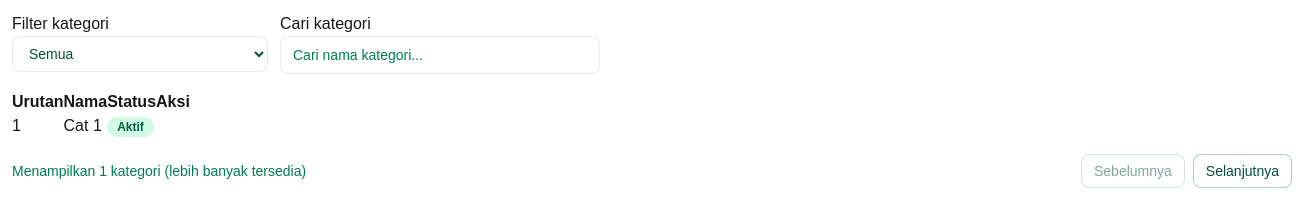
it: CategoryTable DOM › Previous/Next pagination with cursor history
The width and height of the screenshot is (1304, 209).
Expected: the text "Cat 1" is shown, [64, 114, 107, 138]
Step 1. Click the button "Selanjutnya" → (1242, 171), box [1193, 154, 1292, 188]
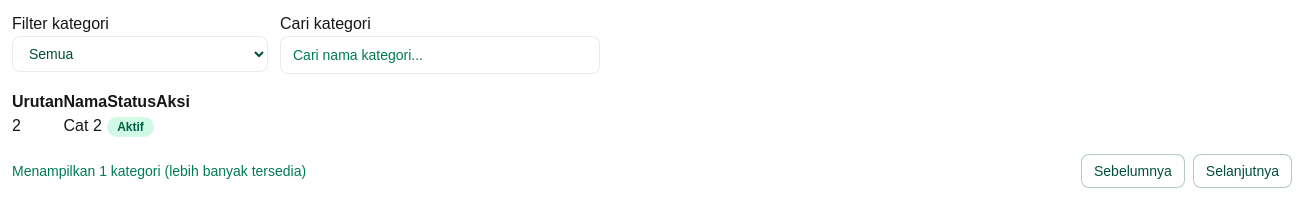
Expected: the text "Cat 2" is shown, [64, 114, 107, 138]
Step 2. Click the button "Selanjutnya" → (1242, 171), box [1193, 154, 1292, 188]
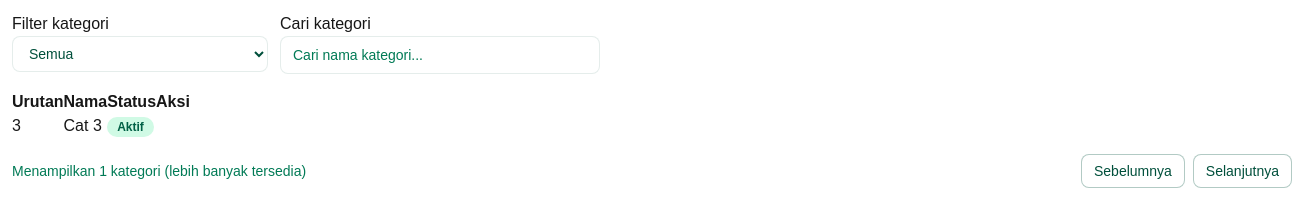
Expected: the button "Sebelumnya" is enabled
Expected: the text "Cat 3" is shown, [64, 114, 107, 138]
Step 3. Click the button "Sebelumnya" → (1133, 171), box [1081, 154, 1185, 188]
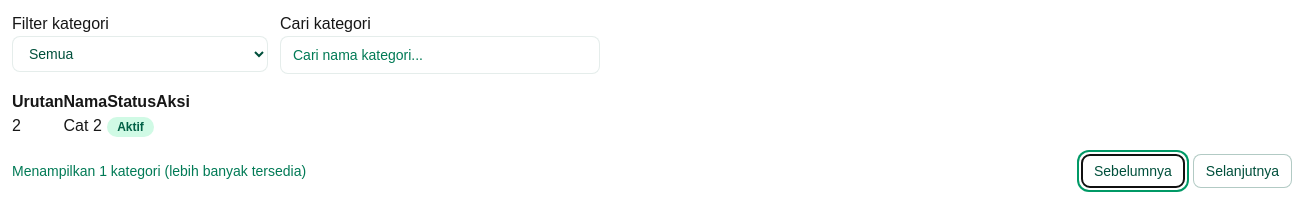
Expected: the text "Cat 2" is shown, [64, 114, 107, 138]
